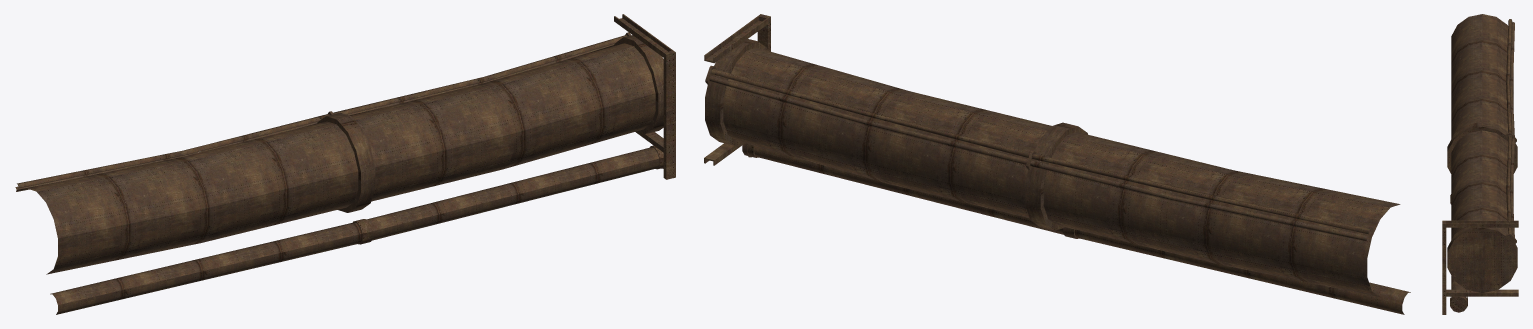
Rendered from pipeset32d_256_001a.glb.
The picture shows the model from 3 angles, left to right: view 1: azimuth 30°, elevation 25°; view 2: azimuth 150°, elevation 25°; view 3: azimuth 270°, elevation 25°; orthographic projection. The views are drawn at different scales.
Visible parts, largest first — view 1: 0_pipeset_metal; view 2: 0_pipeset_metal; view 3: 0_pipeset_metal.
Part boxes in pixels (x1,y1,x2,y2): 0_pipeset_metal: [15, 14, 675, 314]; 0_pipeset_metal: [704, 14, 1410, 314]; 0_pipeset_metal: [1442, 14, 1518, 314].
Bounding box in the file's own units: 6.5 × 1.27 × 0.9654.
1 material, 1 textured.
